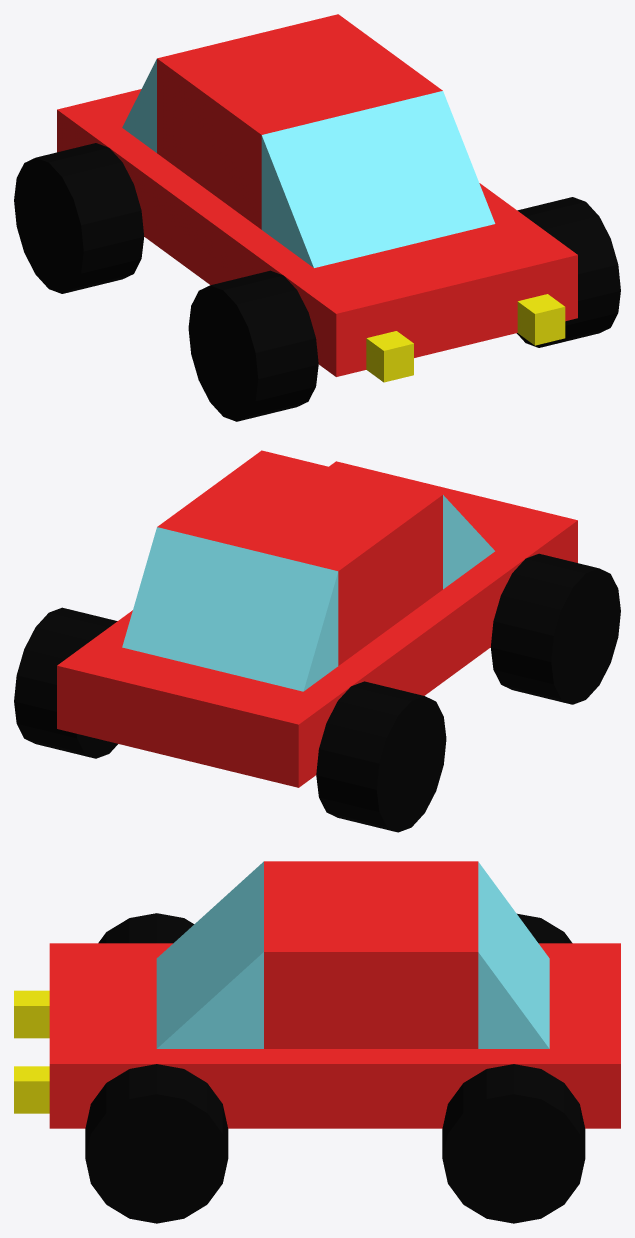
File: carro.glb
3 views of the same model, one above another, from view 1: azimuth 30°, elevation 25°; view 2: azimuth 150°, elevation 25°; view 3: azimuth 270°, elevation 25° (orthographic). The views are drawn at different scales.
Parts seen in each view (by area): view 1: chassi, para-brisa, cabine, roda-tras-esq, roda-frente-esq, roda-frente-dir, farol-dir, farol-esq, vidro-tras; view 2: chassi, cabine, vidro-tras, roda-tras-esq, roda-frente-esq, roda-tras-dir, para-brisa; view 3: chassi, cabine, roda-tras-dir, roda-frente-dir, para-brisa, vidro-tras, roda-frente-esq, farol-esq, farol-dir, roda-tras-esq.
Part boxes in pixels (box(x1,y1,x2,y2)): chassi: box(57, 89, 577, 376); para-brisa: box(261, 91, 495, 267); cabine: box(157, 14, 442, 229); roda-tras-esq: box(14, 143, 144, 293); roda-frente-esq: box(188, 270, 318, 421); roda-frente-dir: box(516, 197, 620, 347); farol-dir: box(517, 294, 565, 345); farol-esq: box(366, 331, 413, 382); vidro-tras: box(122, 59, 156, 152); chassi: box(57, 461, 577, 787); cabine: box(157, 450, 442, 665); vidro-tras: box(122, 527, 338, 691); roda-tras-esq: box(316, 681, 446, 832); roda-frente-esq: box(490, 553, 620, 704); roda-tras-dir: box(14, 607, 117, 758); para-brisa: box(443, 495, 494, 589); chassi: box(49, 943, 620, 1128); cabine: box(264, 861, 478, 1048); roda-tras-dir: box(442, 1064, 585, 1223); roda-frente-dir: box(85, 1064, 228, 1223); para-brisa: box(156, 861, 263, 1048); vidro-tras: box(478, 862, 549, 1048); roda-frente-esq: box(98, 913, 194, 943); farol-esq: box(14, 990, 49, 1038); farol-dir: box(14, 1066, 49, 1113); roda-tras-esq: box(517, 913, 572, 943).
Bounding box in the file's own units: 6 × 3.5 × 8.5.
10 materials, 10 textured.
